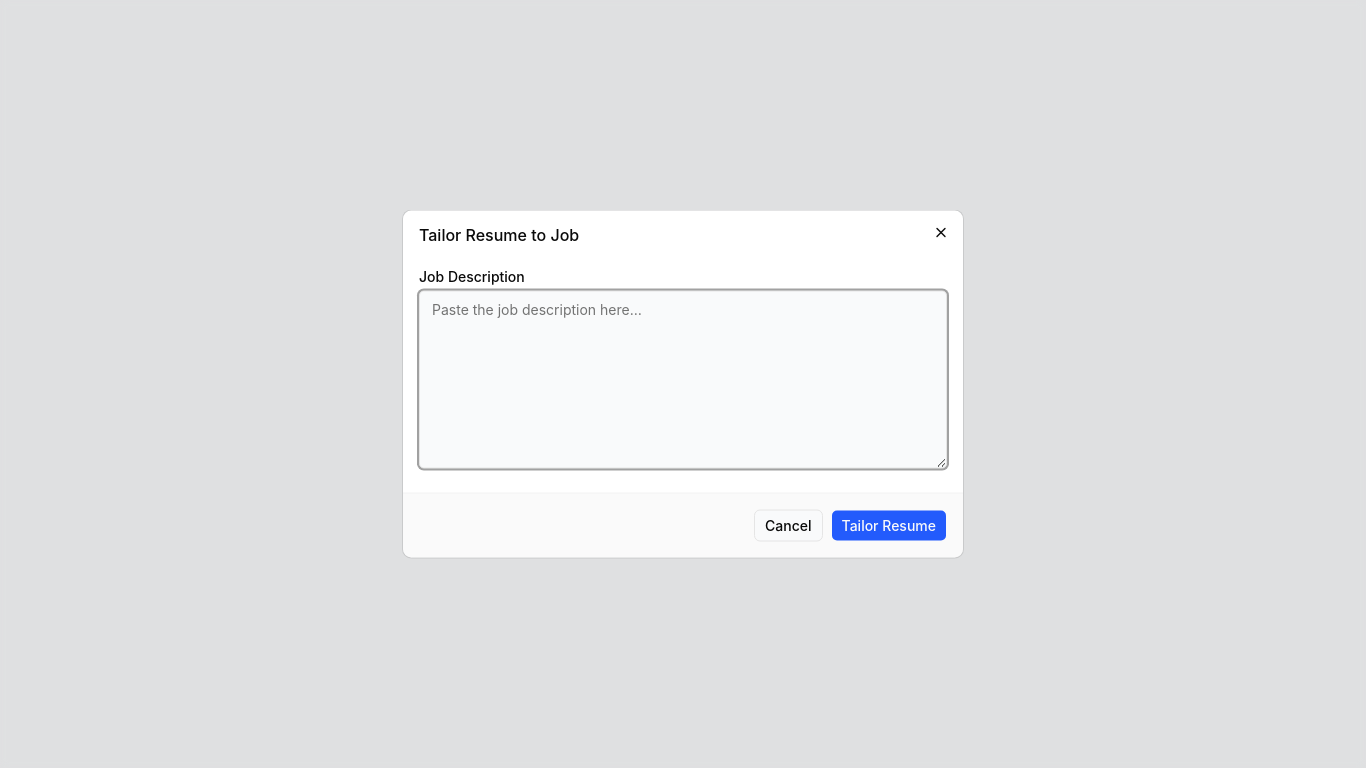
Test case: TailorJobDialog › shows validation error when submitting empty textarea
Click the button "Tailor Resume".
click(889, 526)  # box top-left (830, 510), bottom-right (947, 542)
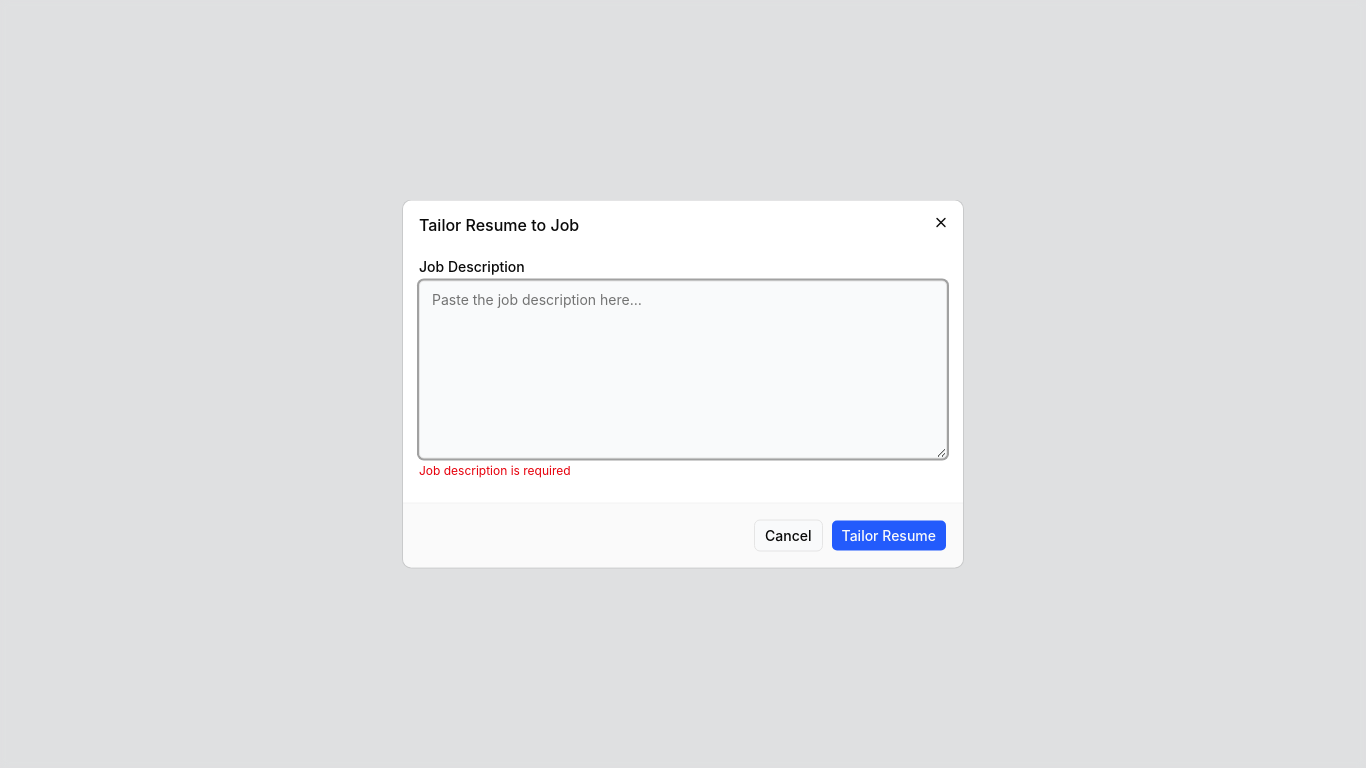
Result: the message reads "Job description is required" at top-left (419, 462), bottom-right (571, 478)
